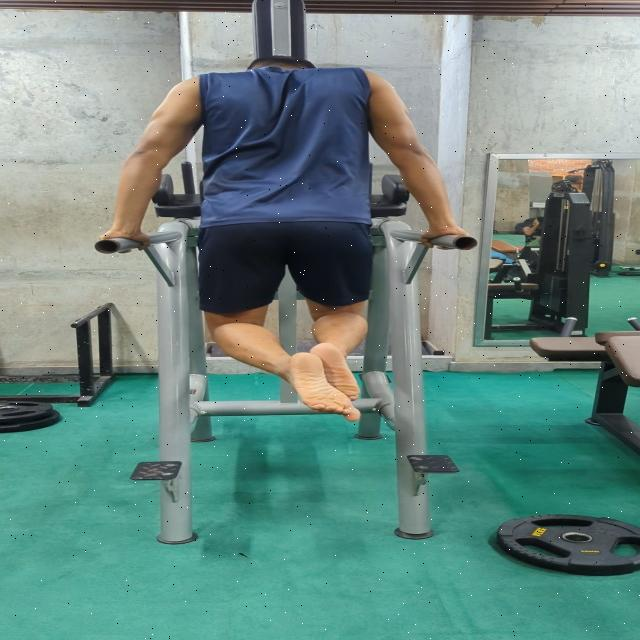Normal_Dips: (95, 40, 486, 433)
